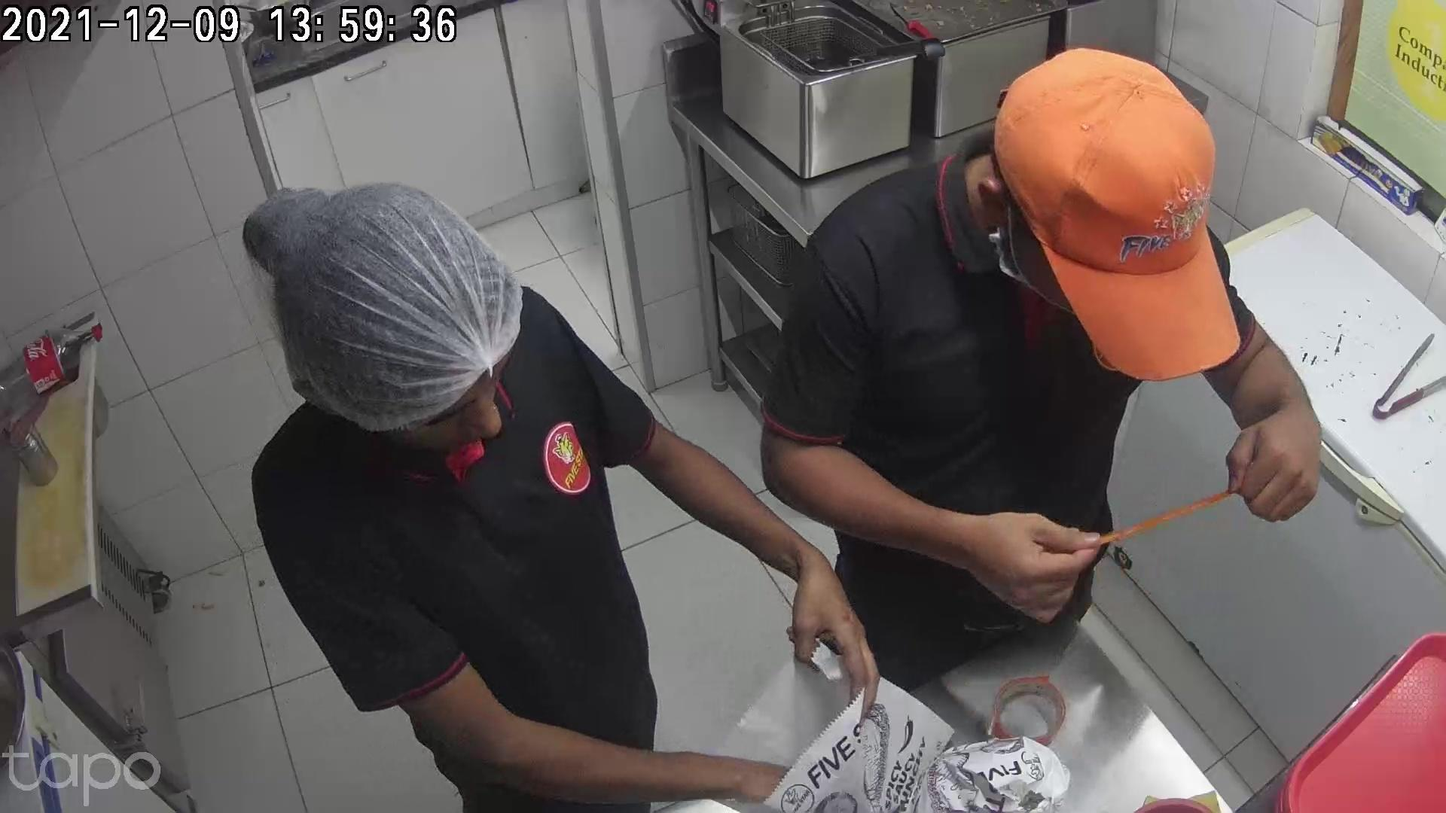no_gloves: (932, 507, 1093, 618)
